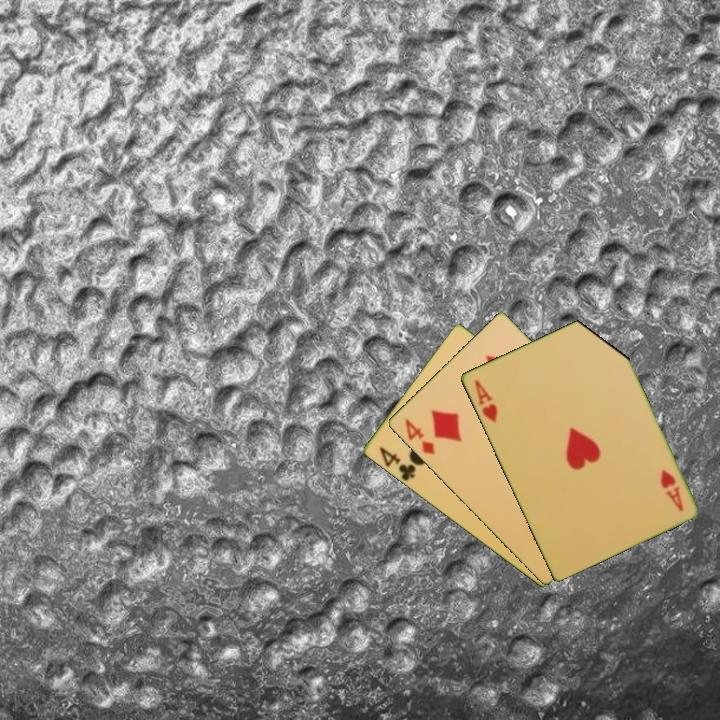4c: (375, 443, 418, 484)
4d: (401, 415, 437, 458)
Ah: (470, 376, 500, 425), (656, 466, 686, 514)
